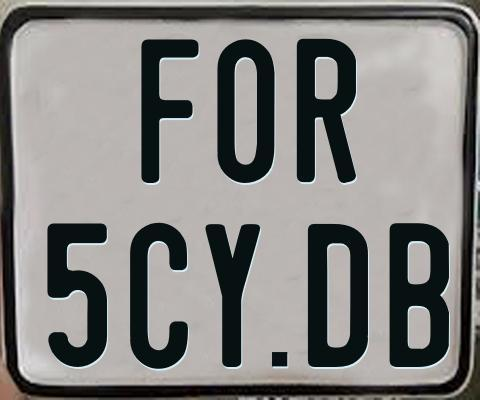0: (215, 36, 275, 180)
5: (45, 221, 107, 370)
B: (386, 223, 448, 372)
C: (129, 223, 192, 372)
D: (308, 222, 371, 370)
F: (139, 36, 203, 184)
R: (294, 37, 354, 187)
Y: (204, 224, 262, 368)
